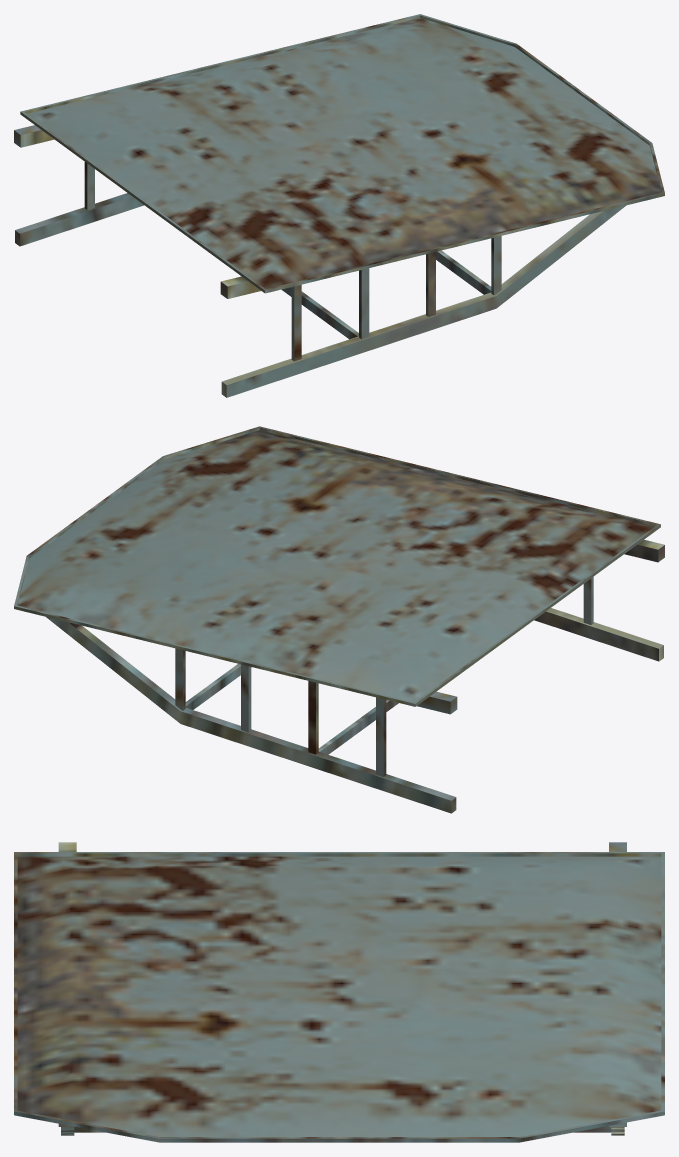
The model's file is gangjia 1.FBX.
3 renders of one model, top to bottom at view 1: azimuth 30°, elevation 25°; view 2: azimuth 150°, elevation 25°; view 3: azimuth 270°, elevation 25°, orthographic. The views are drawn at different scales.
Parts seen in each view (by area): view 1: Mesh Object; view 2: Mesh Object; view 3: Mesh Object.
Part boxes in pixels (x1,y1,x2,y2): Mesh Object: [14, 14, 664, 397]; Mesh Object: [14, 426, 664, 813]; Mesh Object: [14, 842, 664, 1142].
Bounding box in the file's own units: 891 × 224 × 817.
